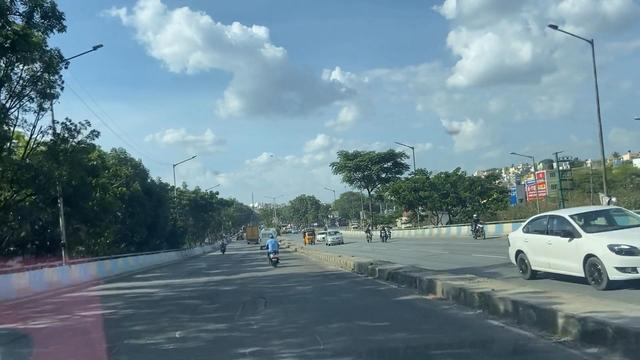LMV: (259, 230, 282, 268)
RoadDamages: (250, 279, 345, 360), (156, 310, 193, 360)
